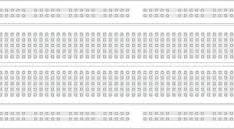breadboard: (3, 10, 234, 124)
